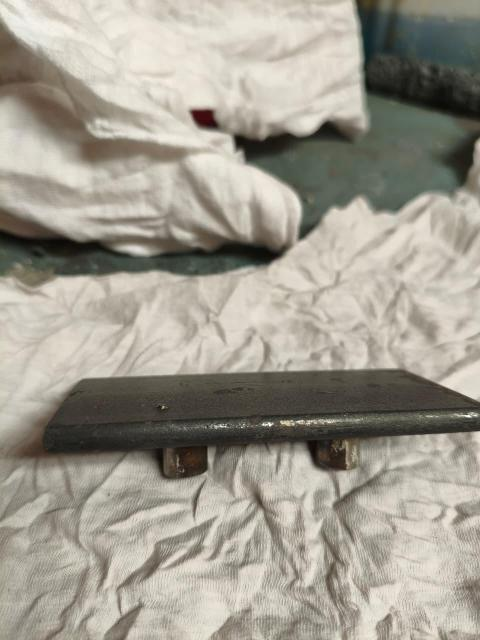Metal: (48, 357, 480, 487)
